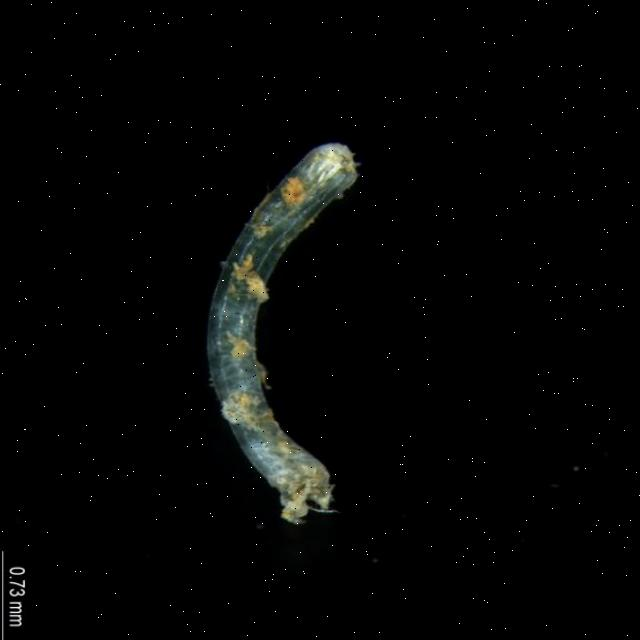Fibre: (202, 138, 380, 540)
